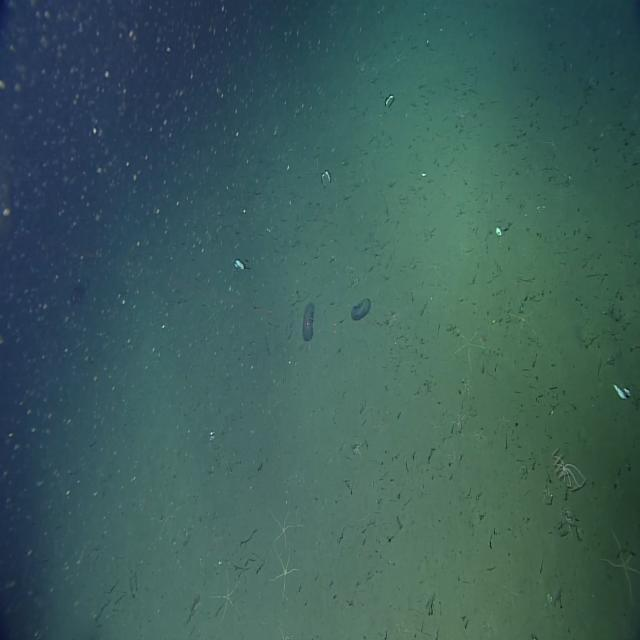Brittle Star: (600, 525, 640, 605), (207, 564, 246, 628), (267, 549, 302, 600)
Not Brittle Star: (349, 292, 373, 324), (300, 297, 316, 343)
